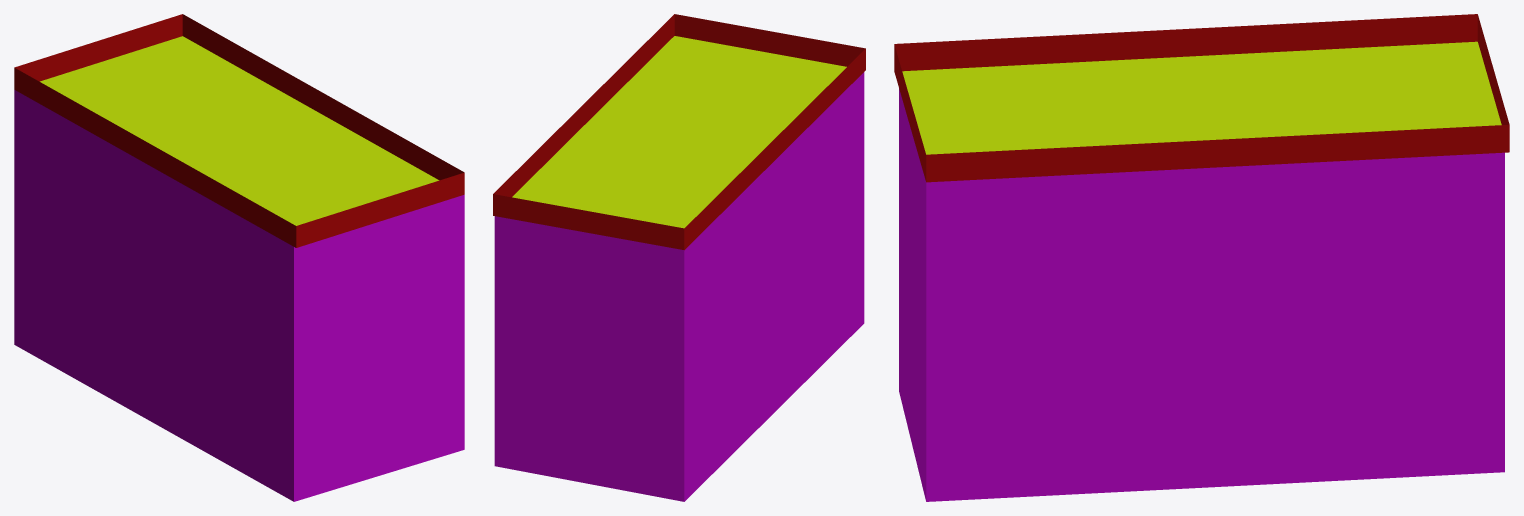
File: bgj_432.glb
3 renders of one model, left to right at view 1: azimuth 30°, elevation 25°; view 2: azimuth 150°, elevation 25°; view 3: azimuth 270°, elevation 25°, orthographic. The views are drawn at different scales.
Parts seen in each view (by area): view 1: bgj_432; view 2: bgj_432; view 3: bgj_432.
Boxes of the visible parts, bbox=[...] form: bgj_432: bbox=[14, 14, 464, 501]; bgj_432: bbox=[493, 14, 865, 501]; bgj_432: bbox=[894, 14, 1509, 501].
Bounding box in the file's own units: 3.81 × 4.39 × 7.05.
